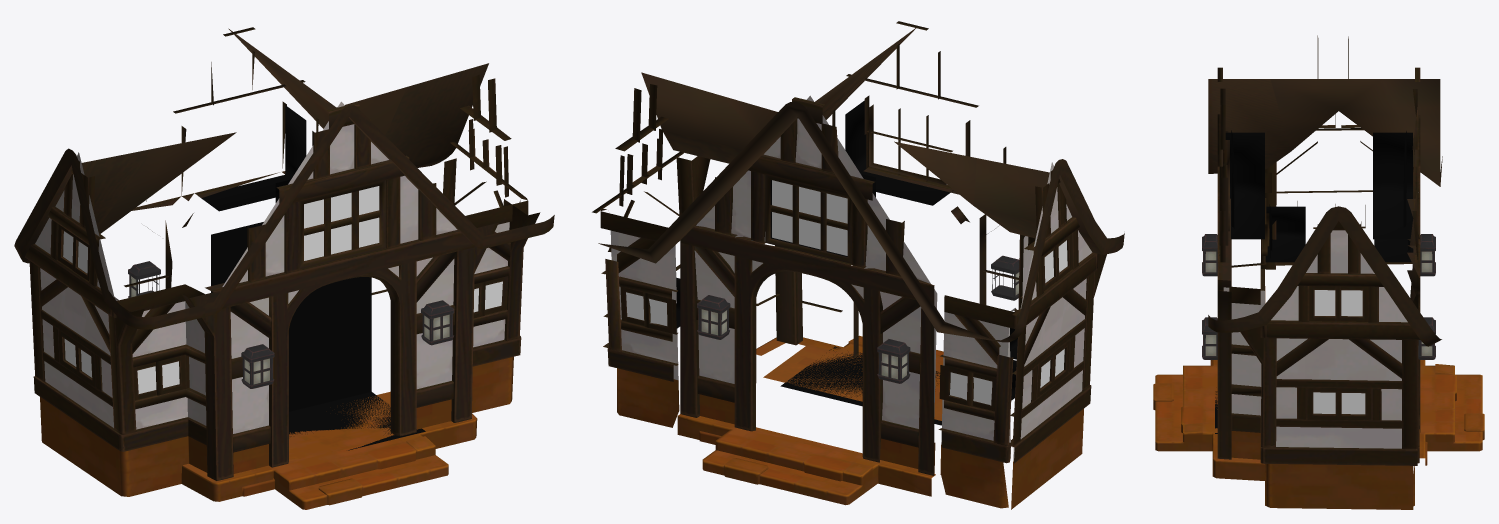
File: chalet-wall-a.glb
3 renders of one model, left to right at view 1: azimuth 30°, elevation 25°; view 2: azimuth 150°, elevation 25°; view 3: azimuth 270°, elevation 25°, orthographic. The views are drawn at different scales.
Parts seen in each view (by area): view 1: Brick00__mWallA, Wood00_low__mWallB, BrickBack__mHouseInner, WindowGlass00__mWindowGlass, LampDownL__mLamp, HouseInnerL__mHouseInner, SideWindow01__mSideWindow; view 2: Brick00__mWallA, Wood00_low__mWallB, WindowGlass00__mWindowGlass, LampDownL__mLamp, HouseInnerL__mHouseInner, BrickBack__mHouseInner, SideWindow01__mSideWindow; view 3: Brick00__mWallA, Wood00_low__mWallB, HouseInnerL__mHouseInner, LampDownL__mLamp, SideWindow01__mSideWindow, CL__mCurtain.
Part boxes in pixels (<box>): Brick00__mWallA: <box>14,28,554,509</box>; Wood00_low__mWallB: <box>25,27,540,480</box>; BrickBack__mHouseInner: <box>211,222,425,450</box>; WindowGlass00__mWindowGlass: <box>137,186,502,393</box>; LampDownL__mLamp: <box>128,261,454,388</box>; HouseInnerL__mHouseInner: <box>201,105,306,211</box>; SideWindow01__mSideWindow: <box>63,231,92,377</box>; Brick00__mWallA: <box>598,28,1124,509</box>; Wood00_low__mWallB: <box>592,21,1106,475</box>; WindowGlass00__mWindowGlass: <box>626,180,992,405</box>; LampDownL__mLamp: <box>697,255,1019,383</box>; HouseInnerL__mHouseInner: <box>676,100,1017,400</box>; BrickBack__mHouseInner: <box>780,346,941,425</box>; SideWindow01__mSideWindow: <box>1040,240,1067,387</box>; Brick00__mWallA: <box>1153,79,1484,509</box>; Wood00_low__mWallB: <box>1217,35,1420,465</box>; HouseInnerL__mHouseInner: <box>1225,132,1413,262</box>; LampDownL__mLamp: <box>1202,234,1435,359</box>; SideWindow01__mSideWindow: <box>1313,290,1365,414</box>; CL__mCurtain: <box>1231,130,1410,257</box>.
Bounding box in the file's own units: 48.63 × 39.51 × 33.75.
7 materials, 3 textured.
